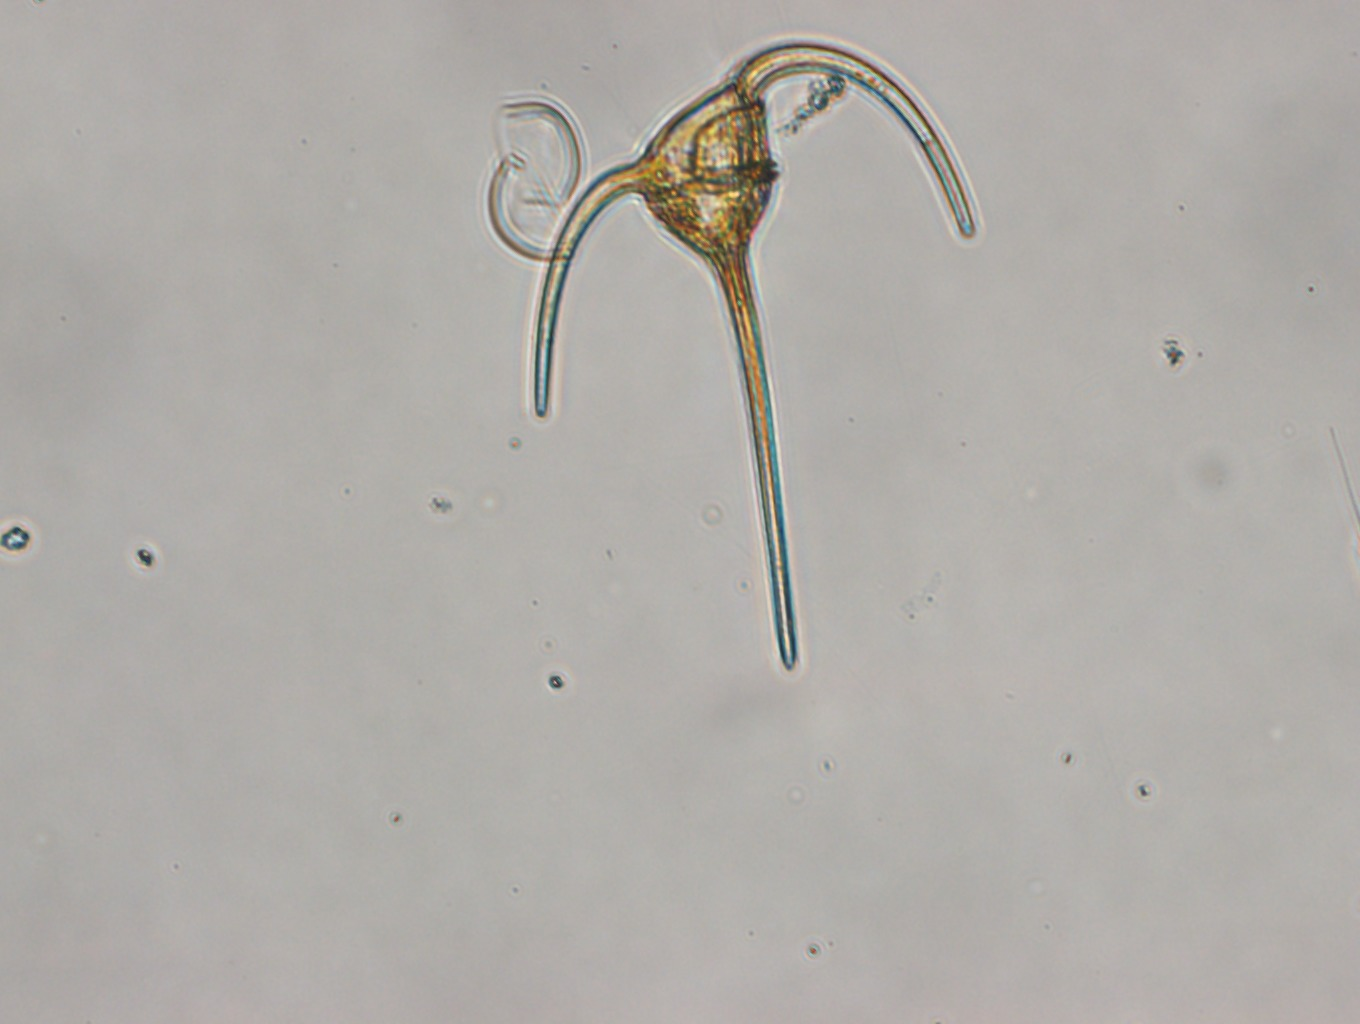ceratium trichoceros: (531, 39, 980, 669)
